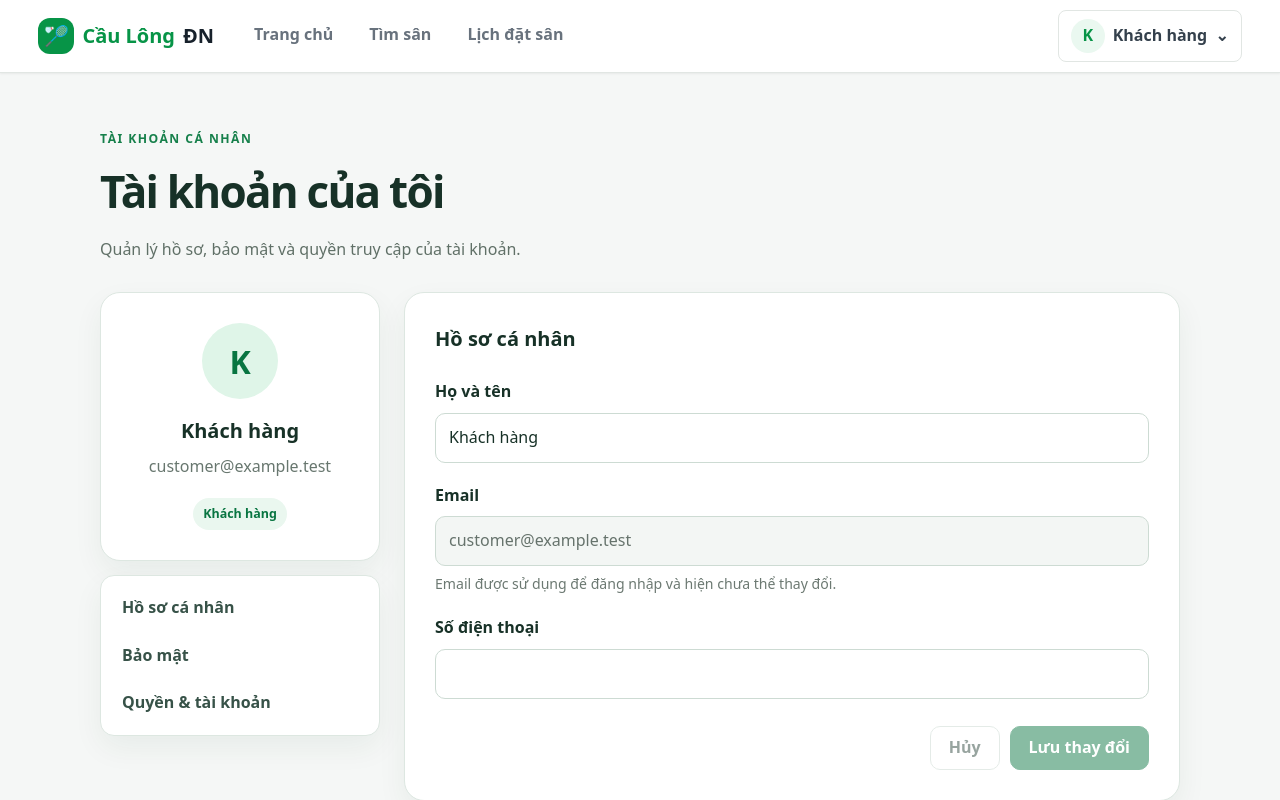
unknown mutation result recovers with GET and does not retry PATCH
Replace the text in the field labelled "Họ và tên" with "Attempt": (792, 438) [435,413,1149,463]
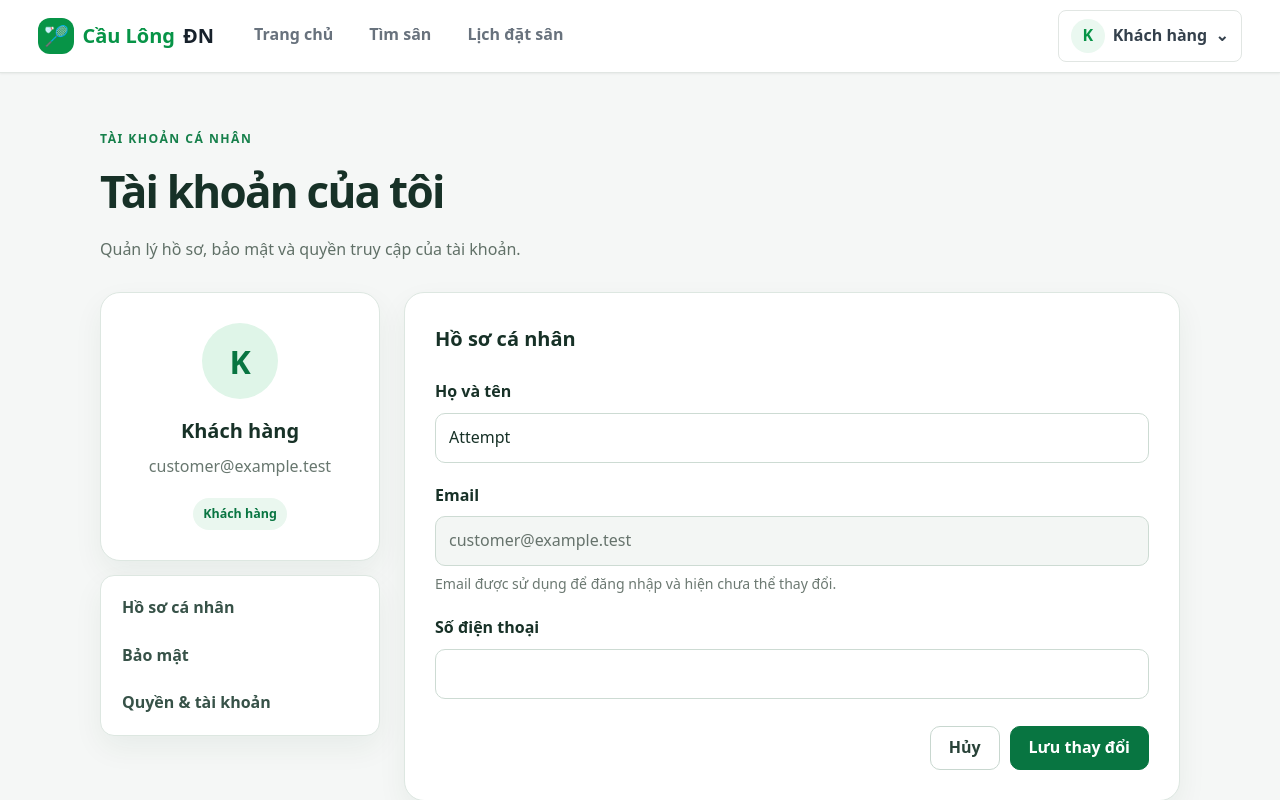
Click the button "Lưu thay đổi": (1079, 748) [1010,726,1149,770]
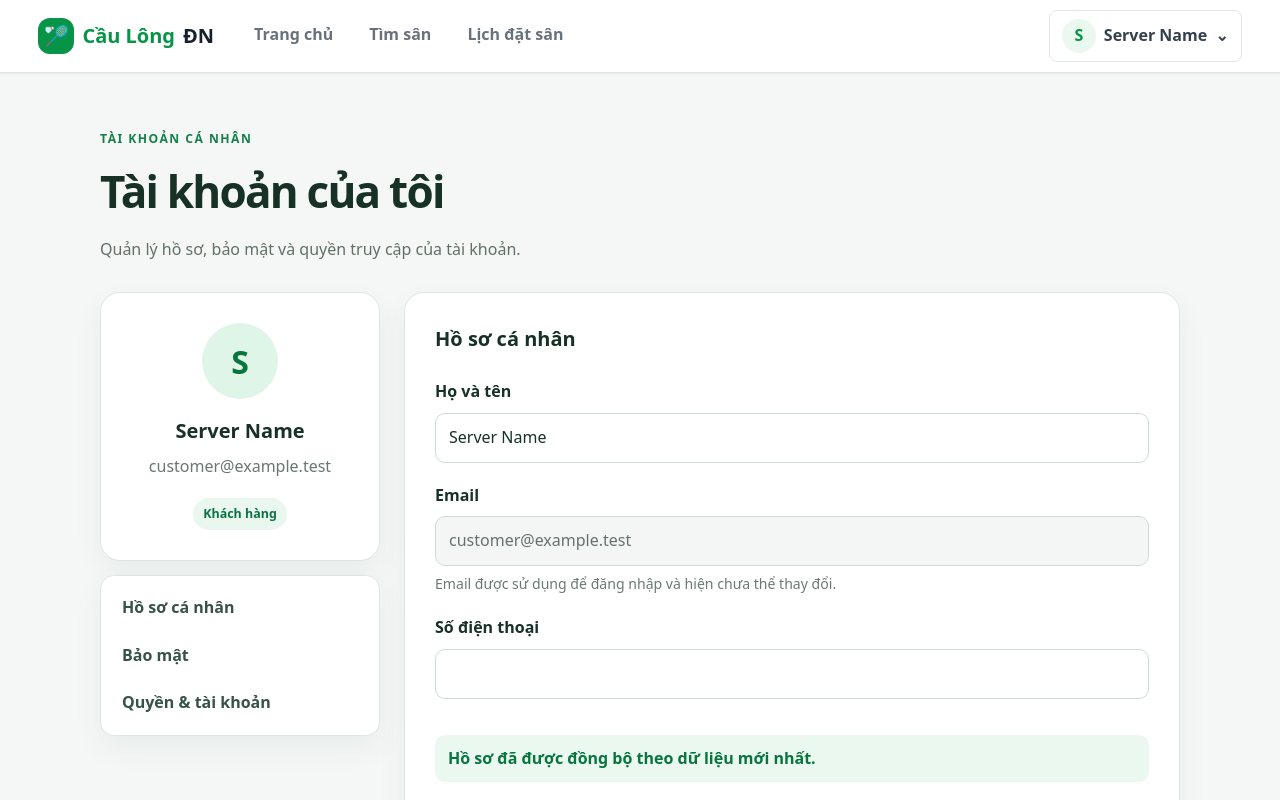
Check: the field showing "Server Name" is shown, box [435,413,1149,463]
